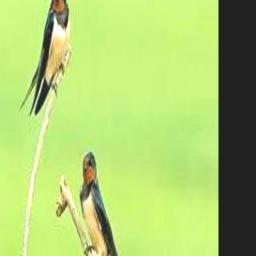Swallow: (80, 151, 137, 256), (21, 0, 71, 116)
